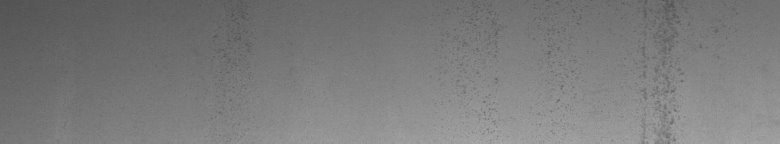ib: (462, 18, 569, 124)
